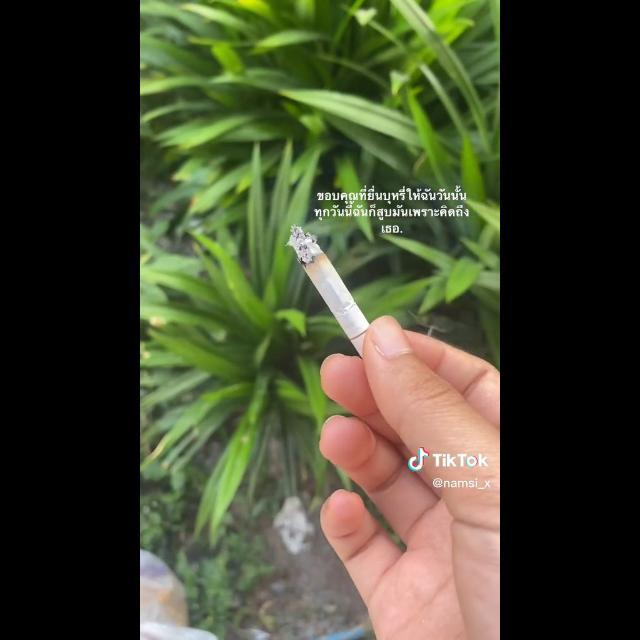rokok: (280, 216, 388, 370)
